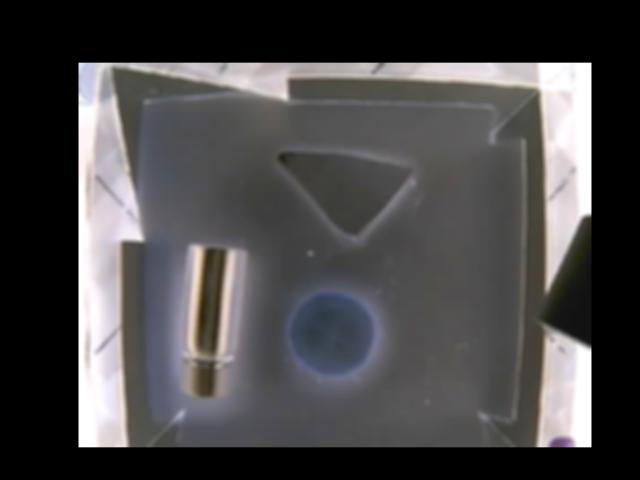Bottle: (181, 242, 246, 396)
China: (274, 153, 411, 240)
Mooli: (286, 292, 376, 379)
